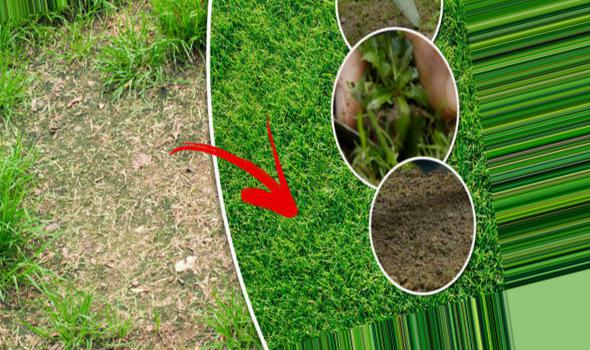patch: (75, 126, 171, 277), (145, 289, 208, 334)
